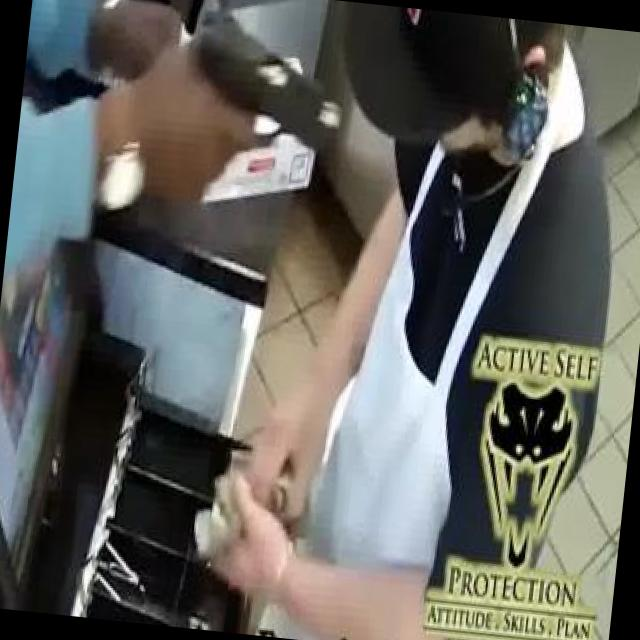Guns: (160, 0, 373, 173)
